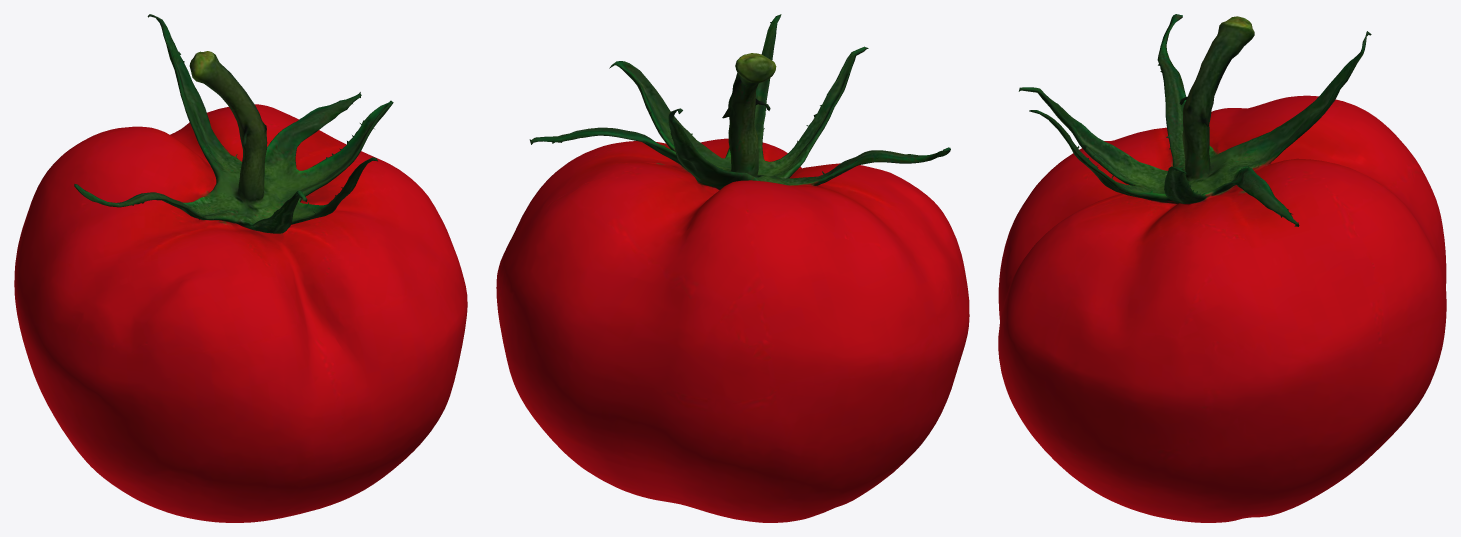
The model's file is tomato.glb.
3 renders of one model, left to right at view 1: azimuth 30°, elevation 25°; view 2: azimuth 150°, elevation 25°; view 3: azimuth 270°, elevation 25°, orthographic. The views are drawn at different scales.
Visible parts, largest first — view 1: tripo_node_8c574d7e-879e-4da8-b30f-0551dd02384a; view 2: tripo_node_8c574d7e-879e-4da8-b30f-0551dd02384a; view 3: tripo_node_8c574d7e-879e-4da8-b30f-0551dd02384a.
Boxes of the visible parts, box(x1,y1,x2,y2) form: tripo_node_8c574d7e-879e-4da8-b30f-0551dd02384a: box(14, 14, 467, 522); tripo_node_8c574d7e-879e-4da8-b30f-0551dd02384a: box(496, 14, 969, 522); tripo_node_8c574d7e-879e-4da8-b30f-0551dd02384a: box(998, 14, 1446, 522).
Bounding box in the file's own units: 0.9429 × 1 × 0.8888.
1 material, 1 textured.
